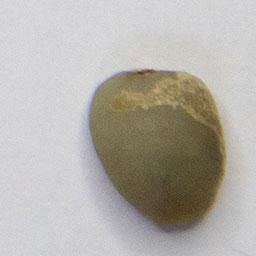premium: (85, 62, 232, 232)
